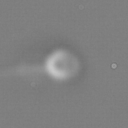normal: (1, 52, 44, 77)
